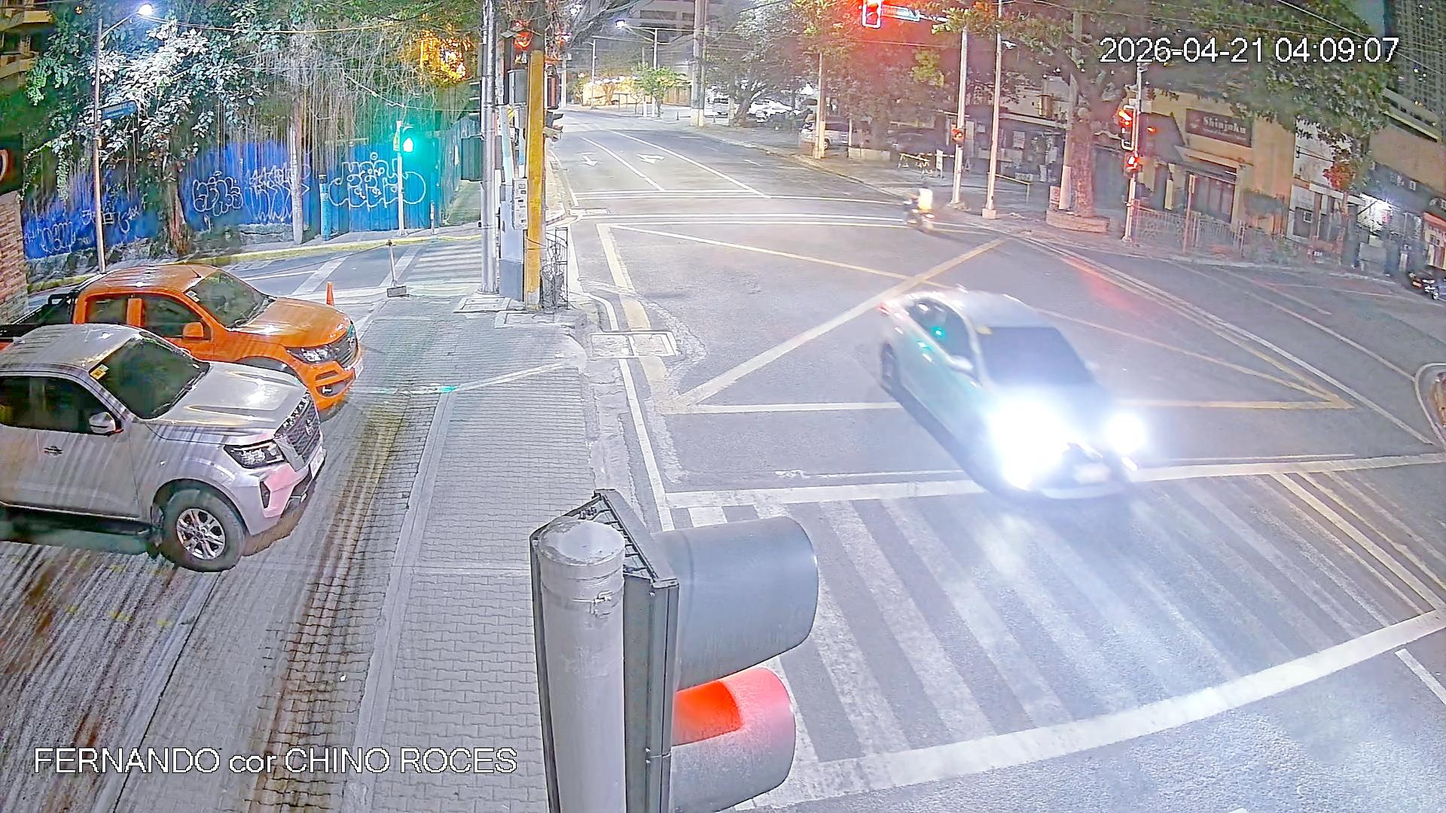Car: (863, 265, 1176, 538), (0, 315, 312, 567), (50, 258, 393, 396), (794, 97, 862, 165)
